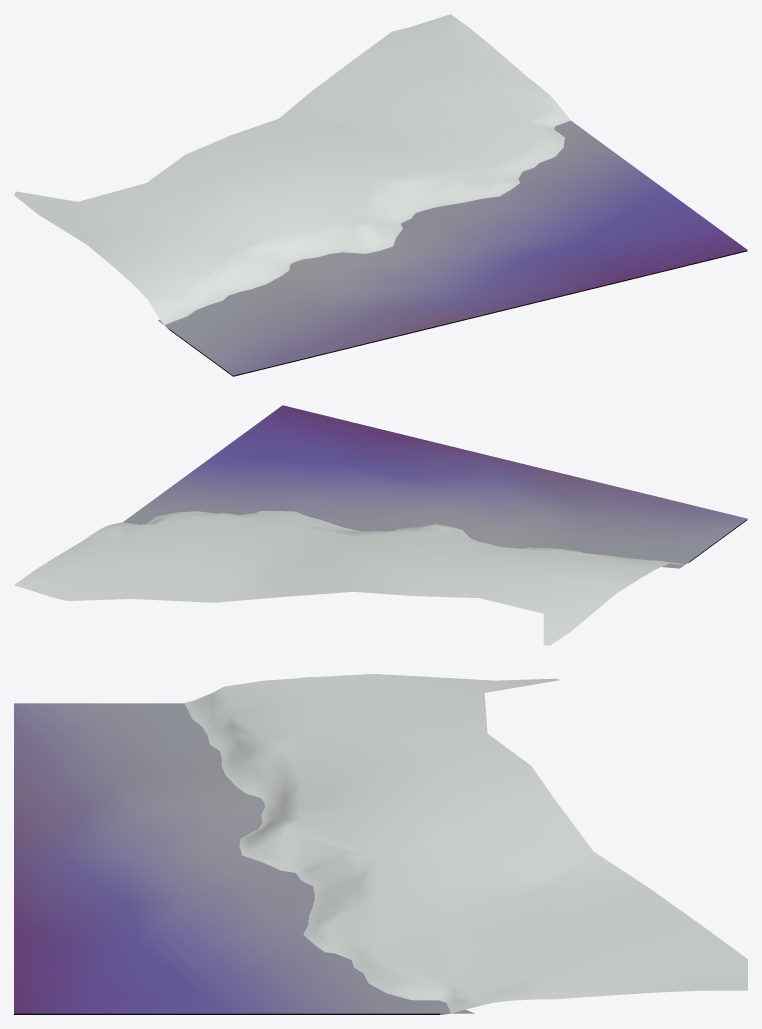
3 views of the same model, one above another, from view 1: azimuth 30°, elevation 25°; view 2: azimuth 150°, elevation 25°; view 3: azimuth 270°, elevation 25° (orthographic). The views are drawn at different scales.
Parts seen in each view (by area): view 1: G:\FFXIV-MapTools\exports\r2f1\bg\ex1\01_roc_r2\fld\r2f1\bgp (×3); view 2: G:\FFXIV-MapTools\exports\r2f1\bg\ex1\01_roc_r2\fld\r2f1\bgp (×2); view 3: G:\FFXIV-MapTools\exports\r2f1\bg\ex1\01_roc_r2\fld\r2f1\bgp (×3).
Part boxes in pixels (left/top/right/bottom): G:\FFXIV-MapTools\exports\r2f1\bg\ex1\01_roc_r2\fld\r2f1\bgp (×3): left=14, top=14, right=747, bottom=376; G:\FFXIV-MapTools\exports\r2f1\bg\ex1\01_roc_r2\fld\r2f1\bgp (×2): left=14, top=405, right=747, bottom=645; G:\FFXIV-MapTools\exports\r2f1\bg\ex1\01_roc_r2\fld\r2f1\bgp (×3): left=14, top=674, right=747, bottom=1014.
Size of the model in its own units: 128 by 7.25 by 128.
